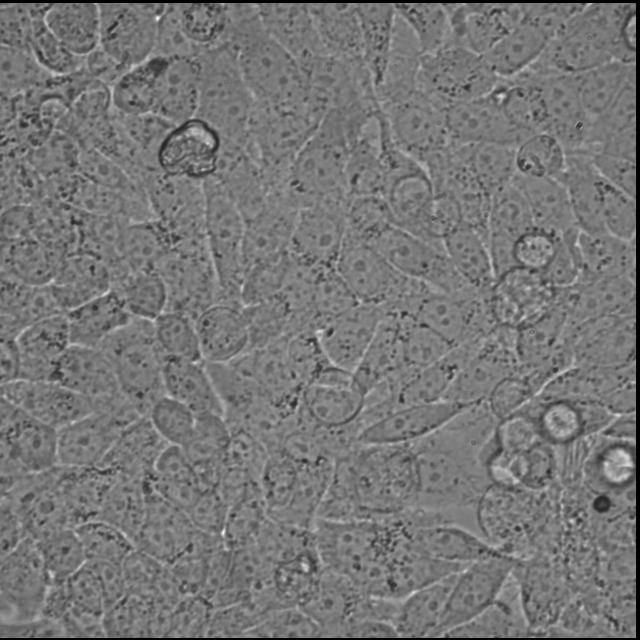microbeads: (592, 489, 614, 516)
